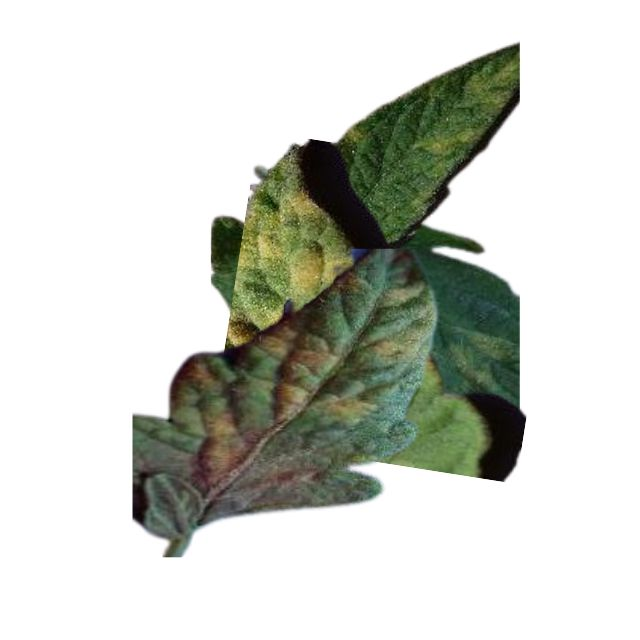Leaf_Mold: (226, 187, 346, 352), (267, 352, 334, 424), (194, 409, 241, 487), (465, 54, 519, 107), (414, 129, 483, 159), (317, 396, 377, 428), (359, 334, 419, 364), (345, 121, 361, 140)
